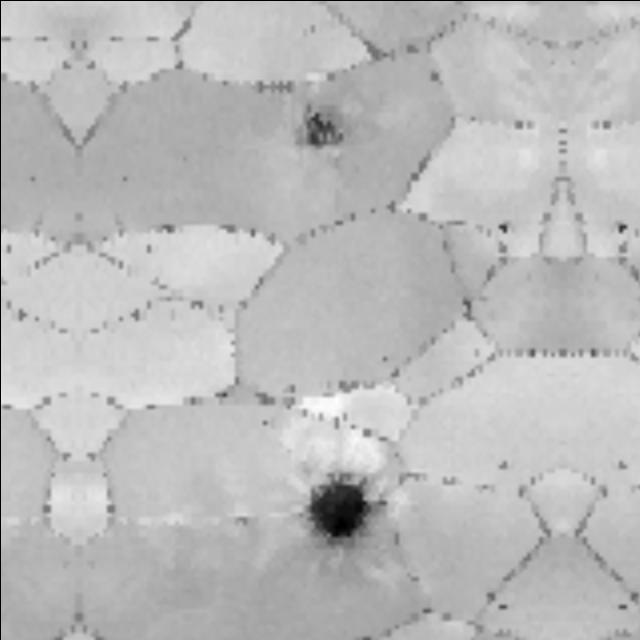good_void: (296, 468, 391, 555), (278, 95, 356, 166), (425, 70, 441, 84), (497, 221, 510, 235), (614, 221, 627, 235), (142, 241, 155, 254), (1, 241, 14, 254), (497, 460, 509, 474), (615, 460, 627, 474), (308, 19, 317, 37)
